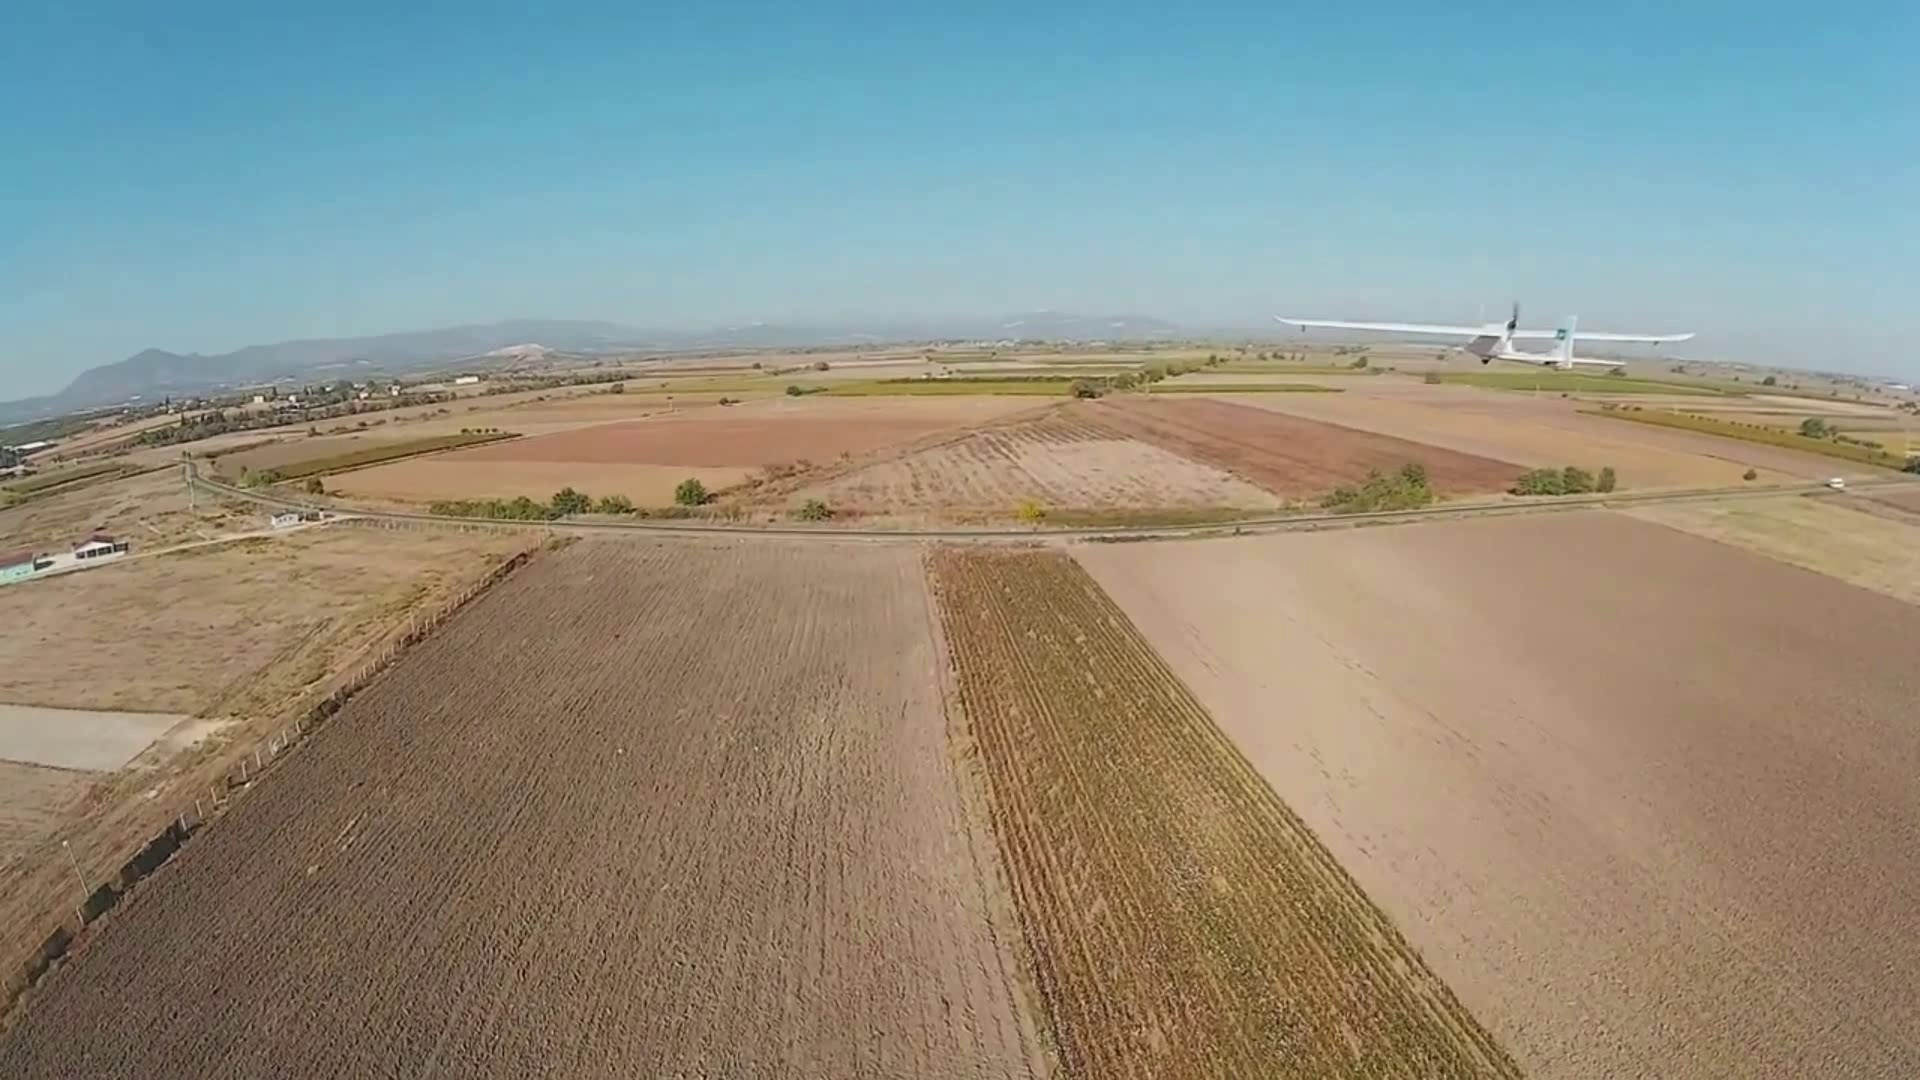airplane: (1273, 287, 1700, 371), (1275, 305, 1575, 365)
